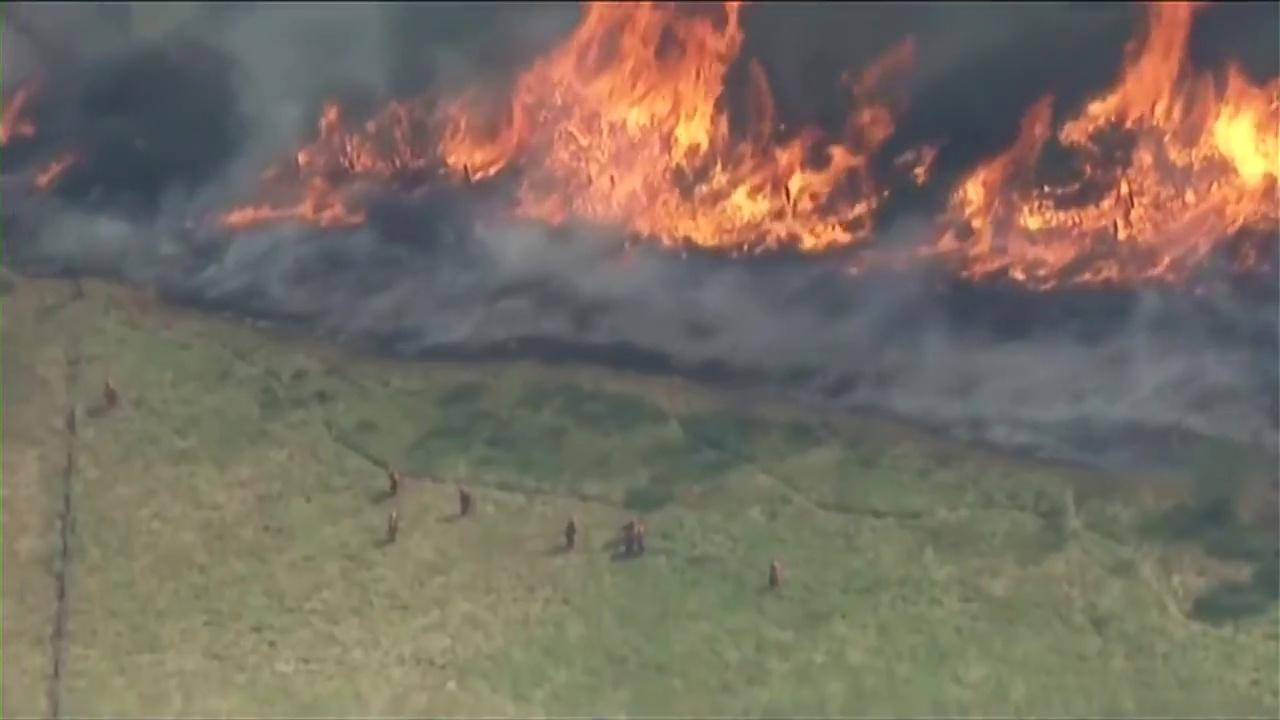Fire: (223, 6, 904, 233), (963, 16, 1266, 285)
